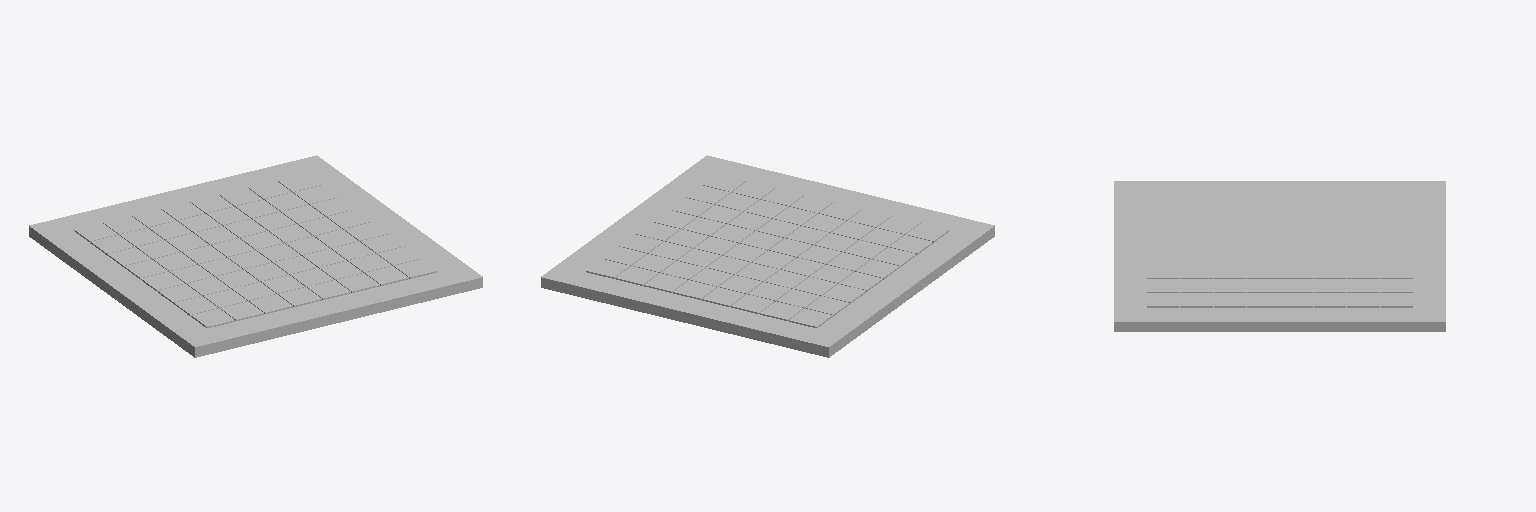
Rendered from chessboard.obj.
The picture shows the model from 3 angles: view 1: azimuth 30°, elevation 25°; view 2: azimuth 150°, elevation 25°; view 3: azimuth 270°, elevation 25°; orthographic projection.
Visible parts, largest first — view 1: BOARD; view 2: BOARD; view 3: BOARD.
Part boxes in pixels (x1,y1,x2,y2): BOARD: (29, 155, 482, 357); BOARD: (541, 155, 994, 357); BOARD: (1114, 181, 1445, 331).
Size of the model in its own units: 9.96 by 0.3895 by 9.96.